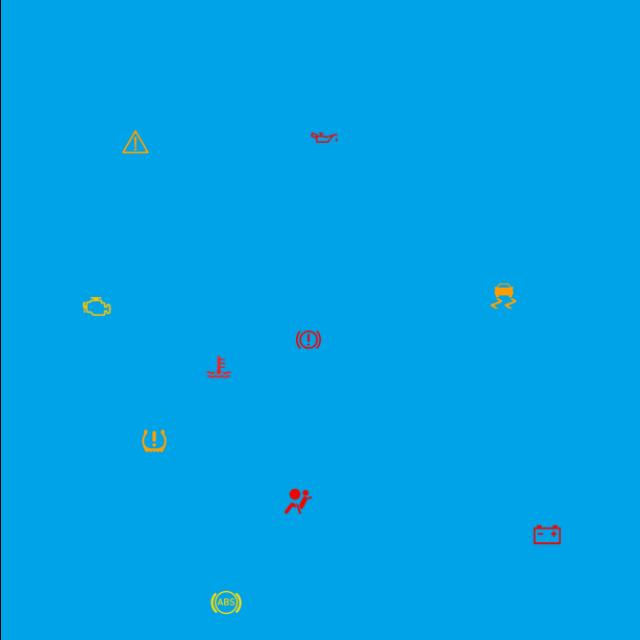Anti Lock Braking System: (208, 586, 242, 620)
Braking System Issue: (290, 323, 324, 357)
Charging System Issue: (529, 518, 563, 552)
Check Engine: (79, 290, 113, 324)
Electronic Stability Problem -ESP-: (486, 279, 520, 313)
Engine Overheating Warning Light: (201, 350, 235, 384)
Low Engine Oil Warning Light: (306, 120, 340, 154)
Low Tire Pressure Warning Light: (136, 424, 170, 458)
Master warning light: (118, 125, 152, 159)
SRS-Airbag: (280, 484, 314, 518)
